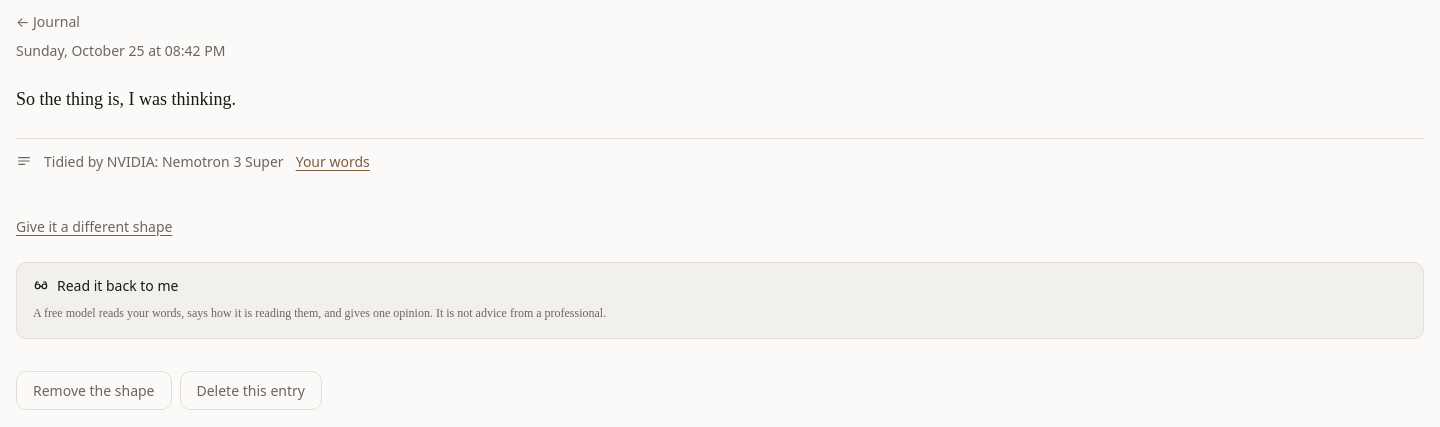
Test: Entry › opens on the shaped copy, and keeps the raw words one press away
Check: the text "So the thing is, I was thinking." is shown, box [16, 89, 236, 109]
Check: the text "Tidied by NVIDIA: Nemotron 3 Super" is shown, box [44, 151, 284, 172]
What coordinates should you click on to do the following:
click the button "Your words"
I would click on:
 (333, 161)
Its box is [296, 151, 370, 172].
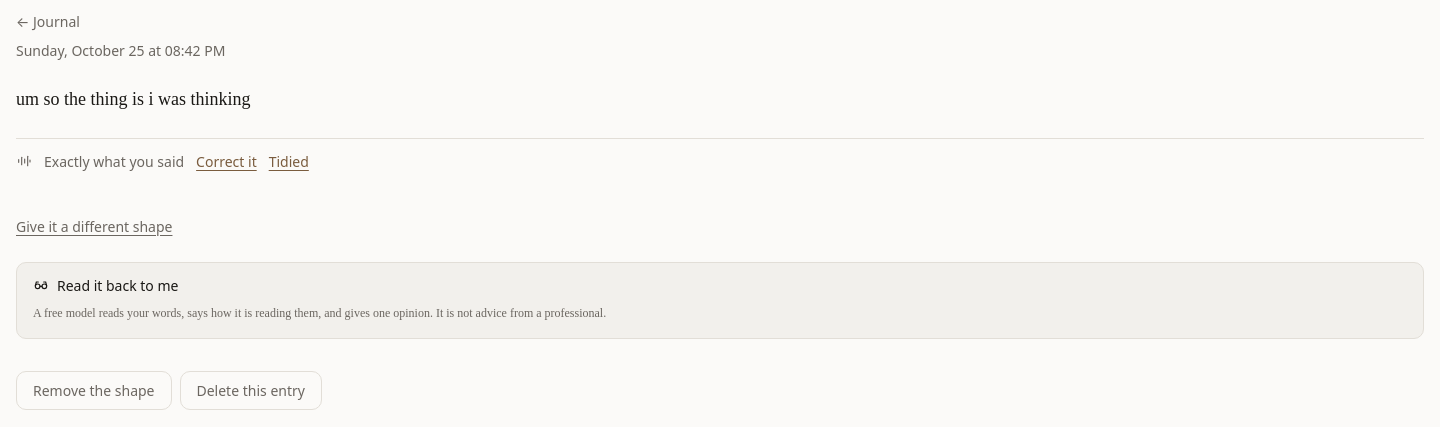
Check: the text "um so the thing is i was thinking" is shown, box [16, 89, 250, 109]
Check: the text "Exactly what you said" is shown, box [44, 151, 184, 172]
